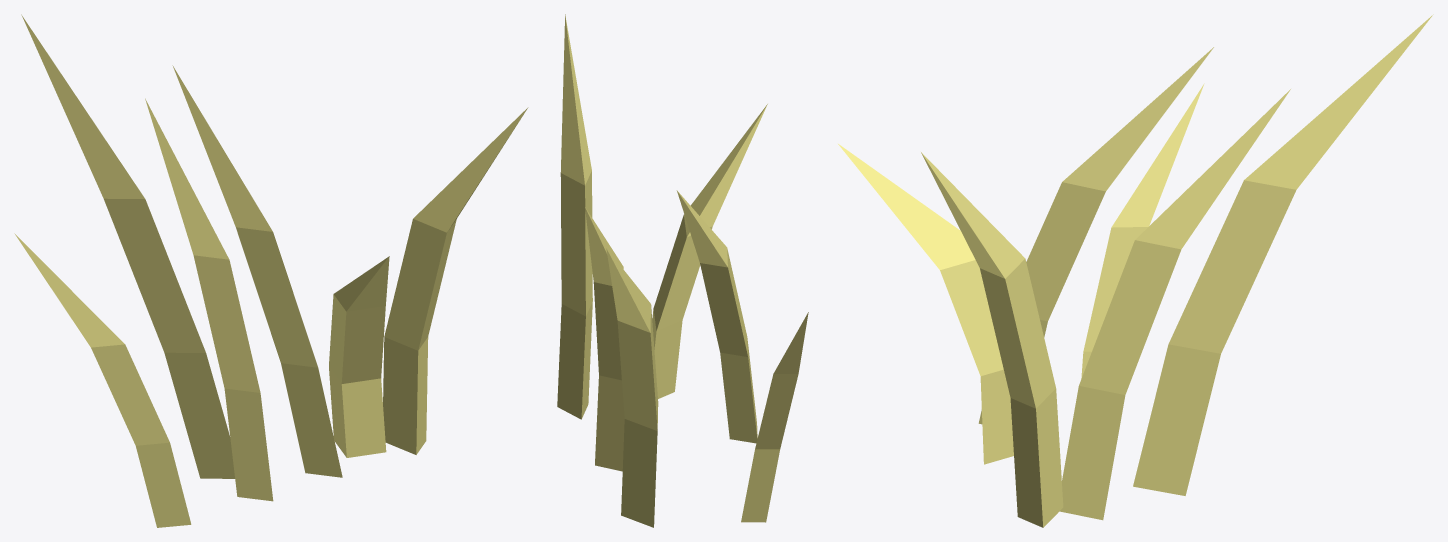
The model's file is Grass_1.fbx.
The picture shows the model from 3 angles, left to right: view 1: azimuth 30°, elevation 25°; view 2: azimuth 150°, elevation 25°; view 3: azimuth 270°, elevation 25°; orthographic projection. The views are drawn at different scales.
Parts seen in each view (by area): view 1: Grass_1; view 2: Grass_1; view 3: Grass_1.
Boxes of the visible parts, <box> form: Grass_1: <box>14,14,528,527</box>; Grass_1: <box>557,14,808,527</box>; Grass_1: <box>838,14,1433,527</box>.
Size of the model in its own units: 87.76 by 106 by 88.66.
